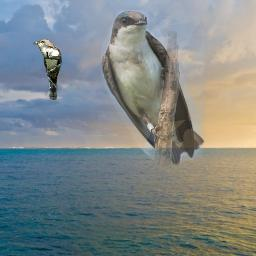Cuckoo: (33, 39, 62, 100)
Swallow: (101, 10, 205, 167)
